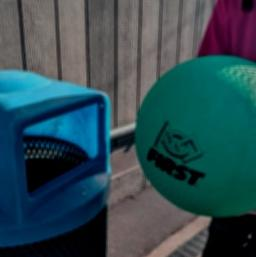algae: (132, 52, 256, 213)
